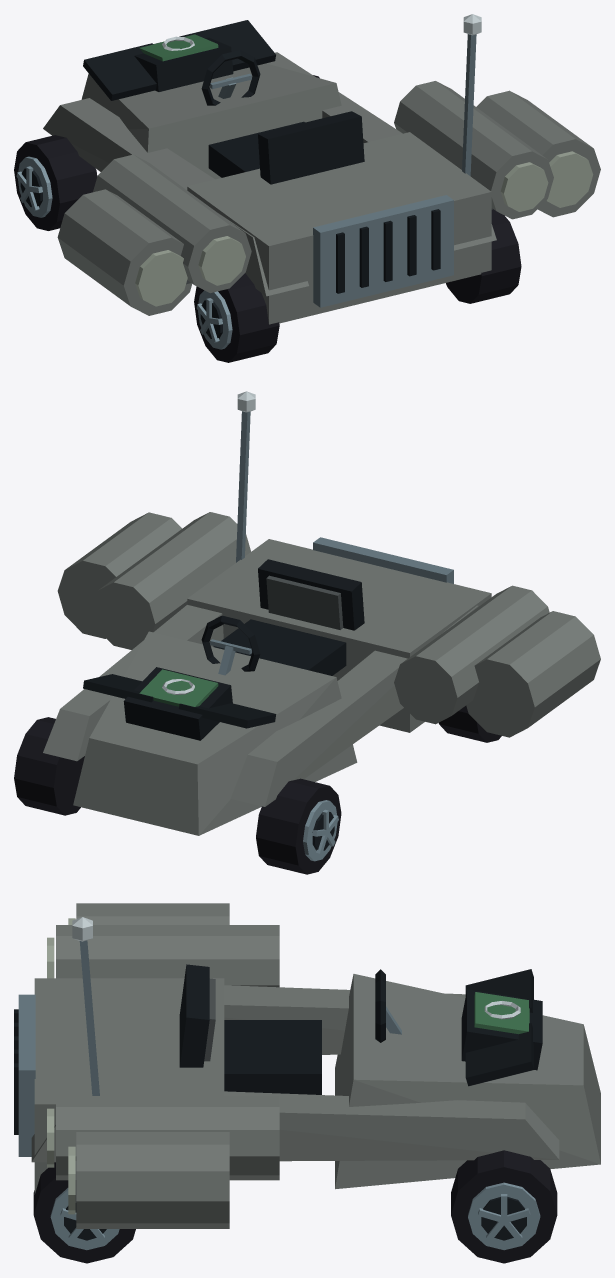
File: kart.glb
3 views of the same model, one above another, from view 1: azimuth 30°, elevation 25°; view 2: azimuth 150°, elevation 25°; view 3: azimuth 270°, elevation 25° (orthographic). The views are drawn at different scales.
Parts seen in each view (by area): view 1: identity-dropship-dropship-armored-cargo-fuselage, identity-dropship-motif-engine-pods, identity-dropship-driver-cockpit, wheel-front-left, wheel-rear-left, identity-dropship-motif-scanner, wheel-rear-right, identity-dropship-motif-antenna; view 2: identity-dropship-dropship-armored-cargo-fuselage, identity-dropship-motif-engine-pods, identity-dropship-driver-cockpit, wheel-front-left, identity-dropship-motif-scanner, wheel-front-right, identity-dropship-motif-antenna, wheel-rear-left; view 3: identity-dropship-dropship-armored-cargo-fuselage, identity-dropship-motif-engine-pods, identity-dropship-driver-cockpit, wheel-front-right, wheel-rear-right, identity-dropship-motif-scanner, identity-dropship-motif-antenna.
Part boxes in pixels (box(x1,y1,x2,y2)): identity-dropship-dropship-armored-cargo-fuselage: box(43, 20, 600, 324); identity-dropship-motif-engine-pods: box(93, 81, 553, 293); identity-dropship-driver-cockpit: box(201, 50, 364, 184); wheel-front-left: box(14, 135, 97, 230); wheel-rear-left: box(194, 273, 279, 362); identity-dropship-motif-scanner: box(134, 34, 233, 91); wheel-rear-right: box(446, 209, 521, 303); identity-dropship-motif-antenna: box(462, 14, 481, 175); identity-dropship-dropship-armored-cargo-fuselage: box(43, 512, 600, 835); identity-dropship-motif-engine-pods: box(91, 512, 549, 724); identity-dropship-driver-cockpit: box(201, 559, 364, 675); wheel-front-left: box(256, 778, 341, 874); identity-dropship-motif-scanner: box(123, 667, 232, 740); wheel-front-right: box(14, 717, 84, 815); identity-dropship-motif-antenna: box(236, 391, 255, 562); wheel-rear-left: box(438, 705, 501, 742); identity-dropship-dropship-armored-cargo-fuselage: box(14, 903, 600, 1228); identity-dropship-motif-engine-pods: box(47, 925, 279, 1180); identity-dropship-driver-cockpit: box(179, 964, 401, 1094); wheel-front-right: box(451, 1150, 557, 1263); wheel-rear-right: box(33, 1162, 135, 1263); identity-dropship-motif-scanner: box(461, 989, 542, 1070); identity-dropship-motif-antenna: box(72, 917, 99, 1095).
Size of the model in its own units: 3 by 1.72 by 2.76.
